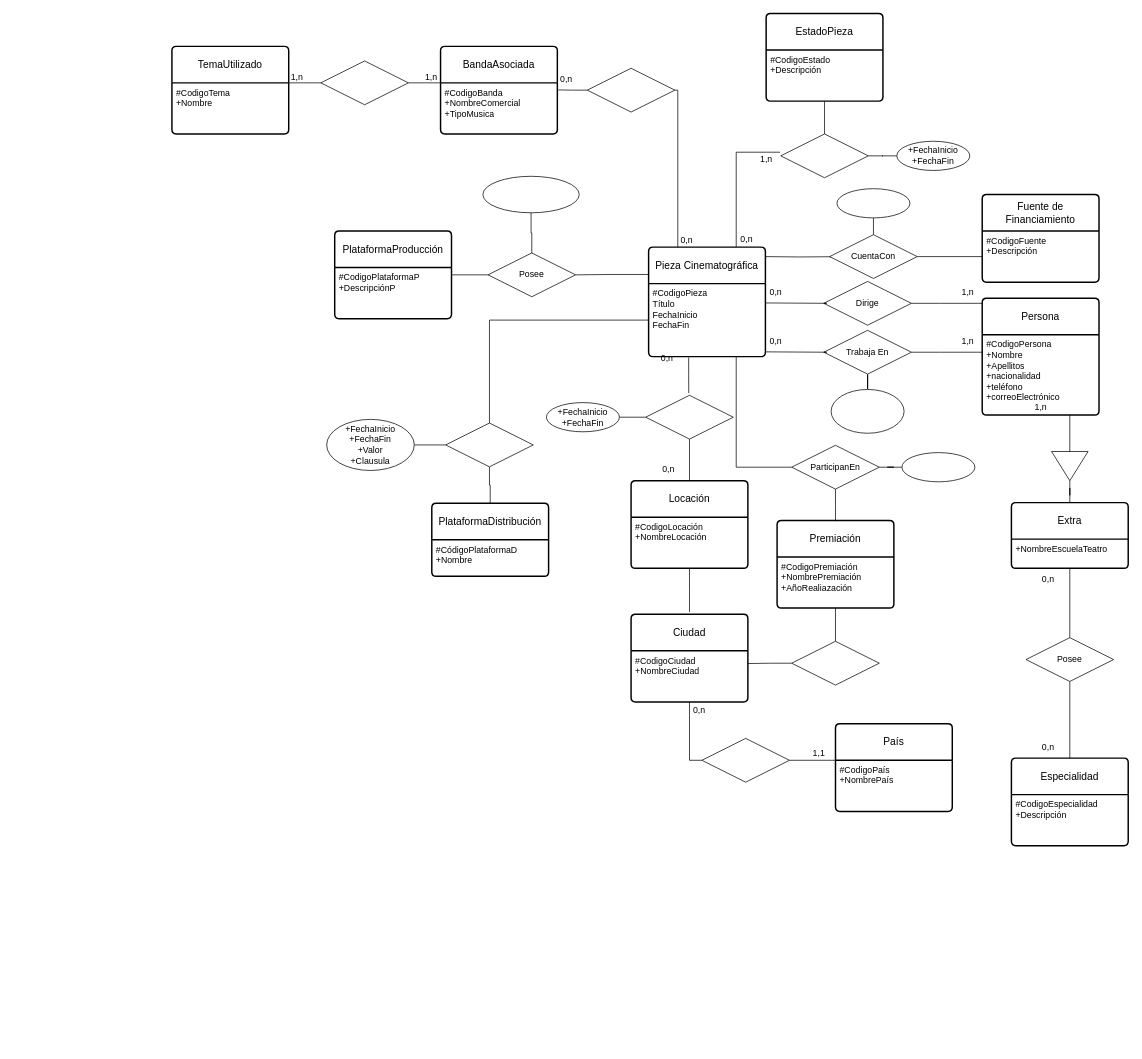
The diagram is 1142 pixels wide and 1059 high, and some of its shapes have lost their labels. Each missing label, with the centre of its shape:
"+Cantidad de Meses +Costo" goes at point (530, 194).
"+FechaInicio +FechaFin +Monto" goes at point (867, 411).
"+PremioGanado +Categoría" goes at point (938, 467).
"Asocian" goes at point (489, 444).
"EstáUbicada" goes at point (745, 760).
"MontoObtenido" goes at point (873, 203).
"SeEncuentraEn" goes at point (824, 155).
"SeLlevaAcabo" goes at point (835, 663).
"SeRodaEn" goes at point (689, 417).
"Tiene" goes at point (631, 90).
"Utiliza" goes at point (364, 82).
